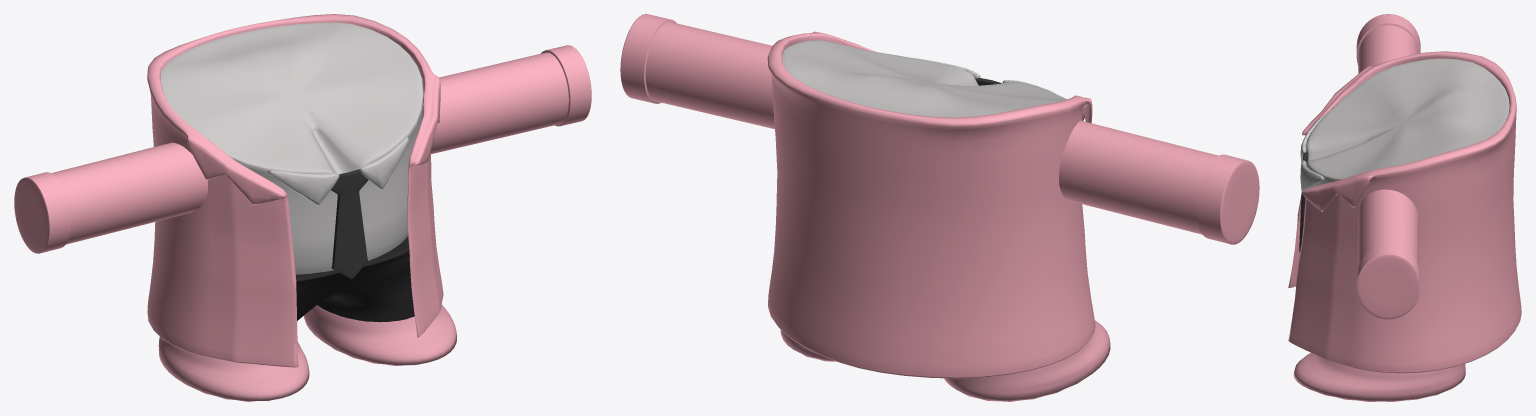
The model's file is long-vest.glb.
3 renders of one model, left to right at view 1: azimuth 30°, elevation 25°; view 2: azimuth 150°, elevation 25°; view 3: azimuth 270°, elevation 25°, orthographic. The views are drawn at different scales.
Visible parts, largest first — view 1: AO_VEST_DAI (×4); view 2: AO_VEST_DAI (×3); view 3: AO_VEST_DAI (×4).
Part boxes in pixels (x1,y1,x2,y2): AO_VEST_DAI (×4): (14, 14, 591, 401); AO_VEST_DAI (×3): (620, 14, 1259, 401); AO_VEST_DAI (×4): (1288, 14, 1521, 401).
Size of the model in its own units: 1.04 by 0.4943 by 0.4243.
4 materials, 1 textured.
